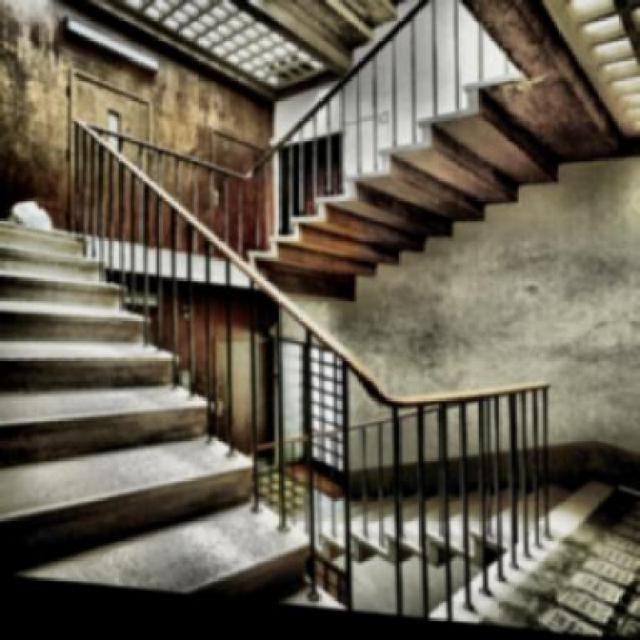stair: (2, 147, 356, 616)
